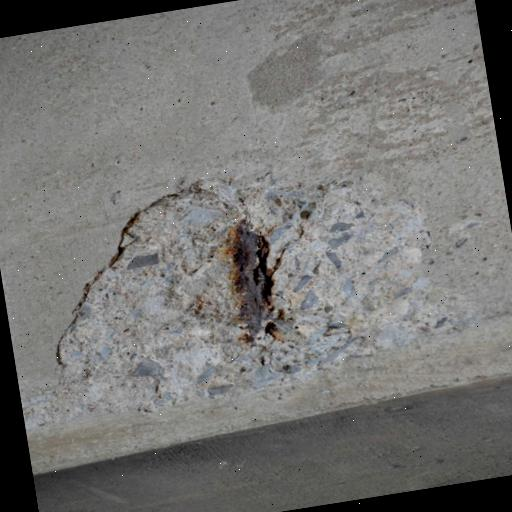spalling: (53, 172, 480, 410)
